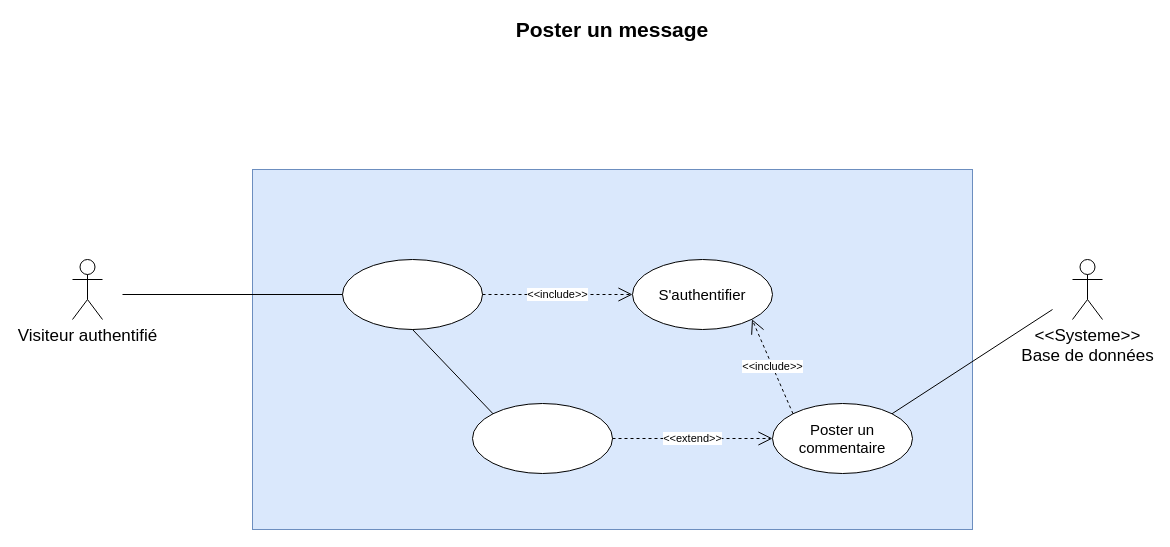
Some shapes in this 1170 by 547 pixel diagram are drawn without their labels. Each missing label, with the box of its shape:
Page d'accueil Liste des tricks: (342, 258, 482, 330)
Page détails d'un trick: (472, 402, 612, 474)
